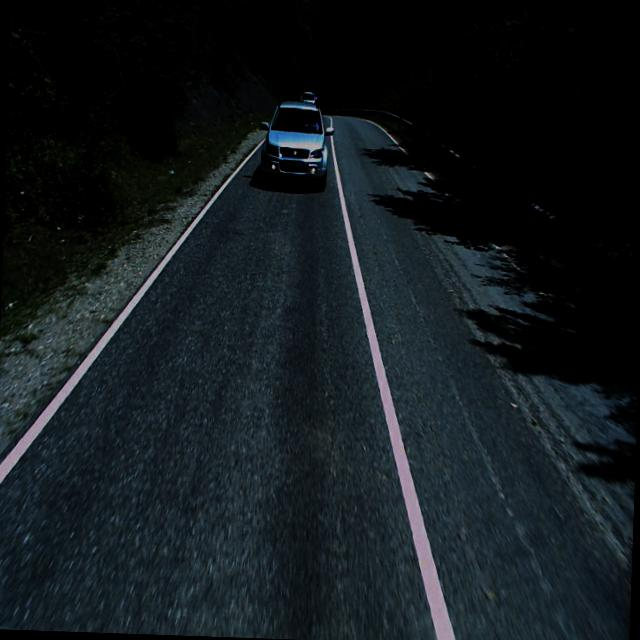road: (0, 114, 638, 640)
